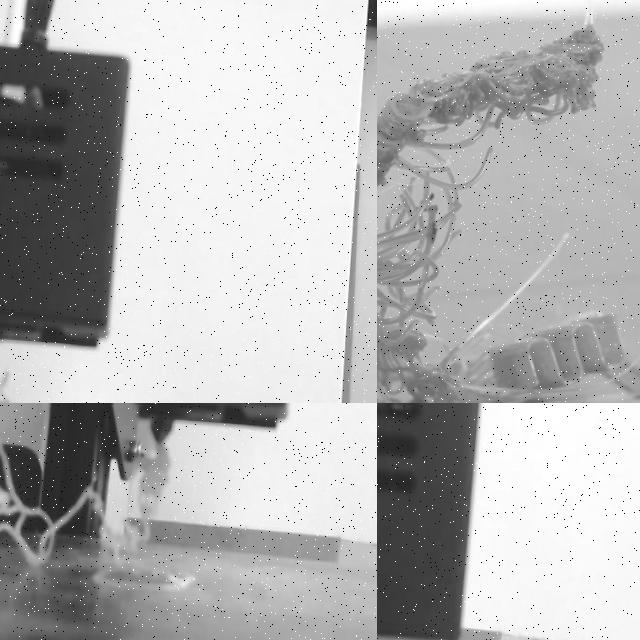spaghetti: (0, 439, 192, 590), (377, 22, 605, 137), (377, 199, 455, 346)
